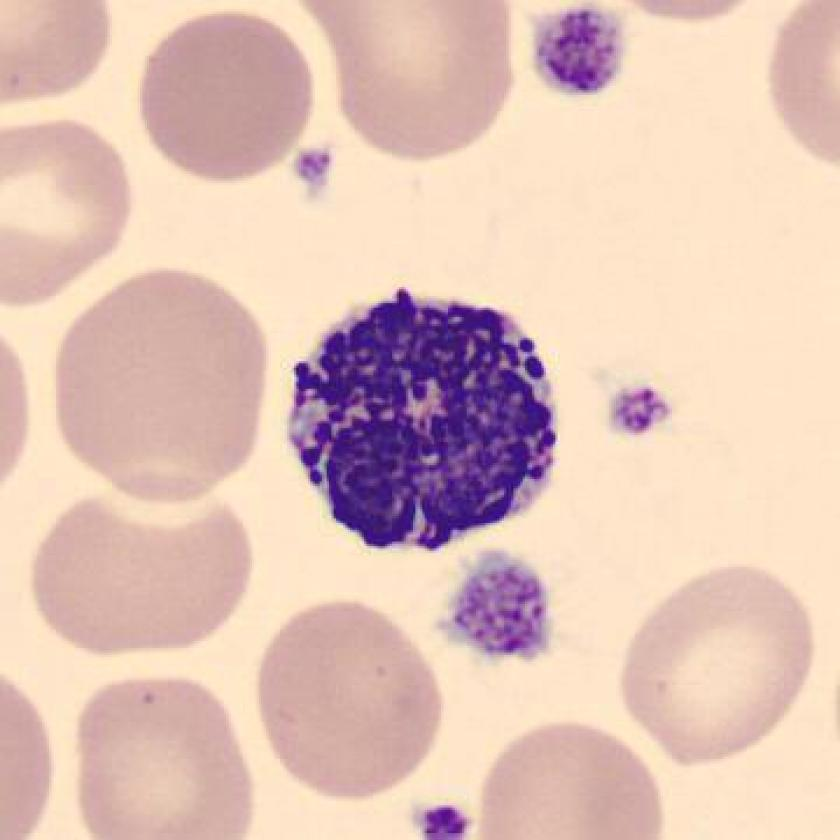basophil: (272, 279, 582, 563)
